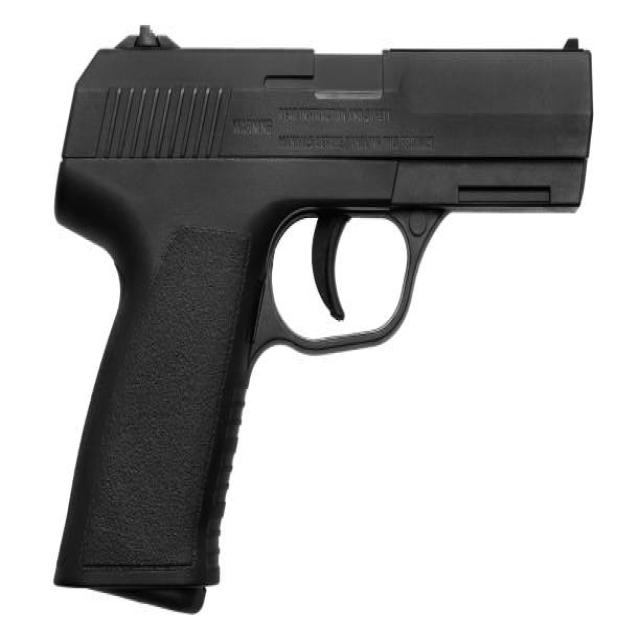pistol: (43, 25, 602, 623)
